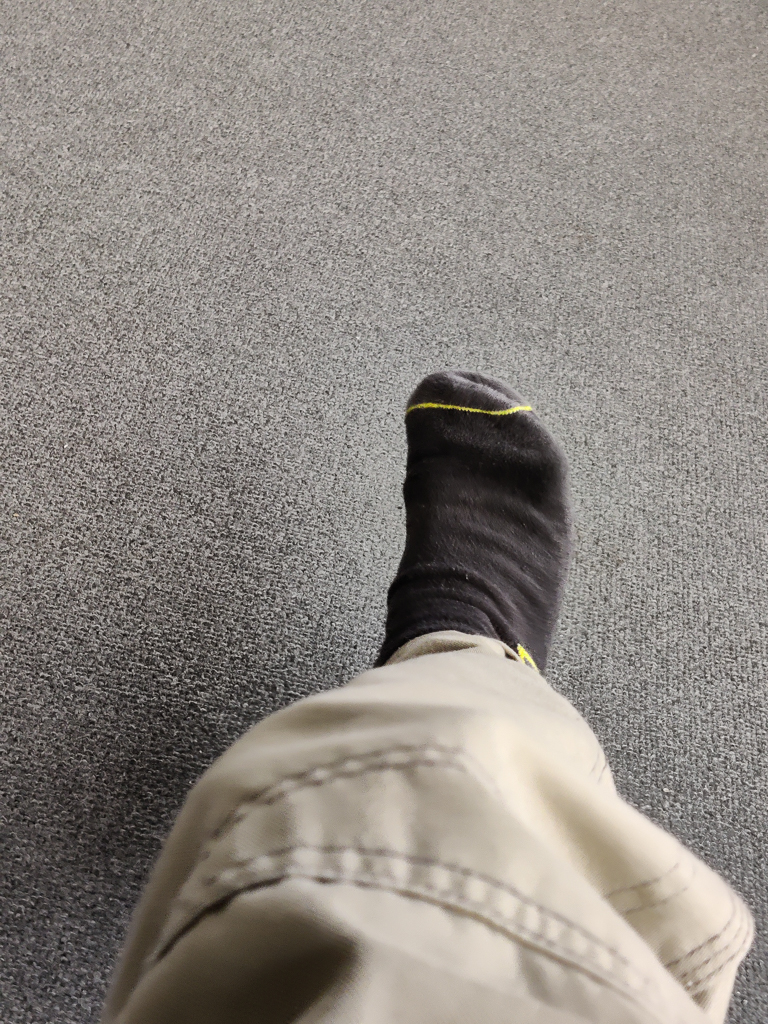Humanoid: (77, 298, 763, 1024)
